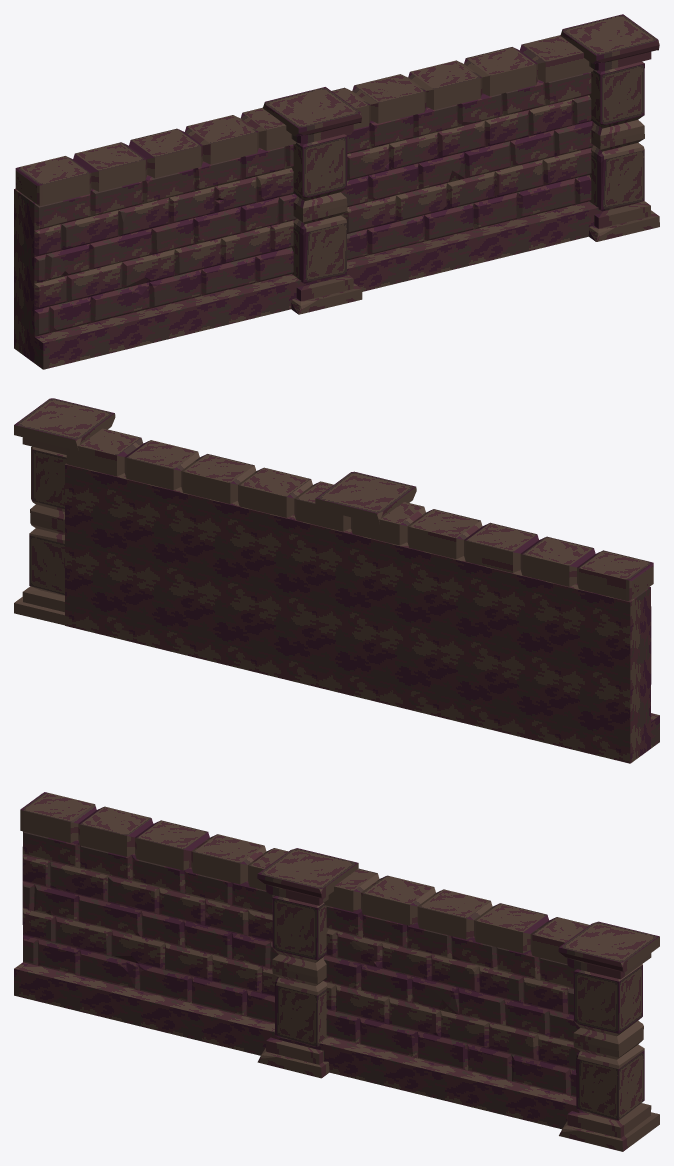
File: brick_wall_comp_2.fbx
The picture shows the model from 3 angles, top to bottom: view 1: azimuth 30°, elevation 25°; view 2: azimuth 150°, elevation 25°; view 3: azimuth 330°, elevation 25°; orthographic projection.
Visible parts, largest first — view 1: Pillar.003; view 2: Pillar.003; view 3: Pillar.003.
Part boxes in pixels (left/top/right/bottom): Pillar.003: left=14, top=14, right=659, bottom=369; Pillar.003: left=14, top=398, right=659, bottom=763; Pillar.003: left=14, top=792, right=659, bottom=1151.
Size of the model in its own units: 2400 by 702 by 252.
Materials: 2 (2 with a texture image).
